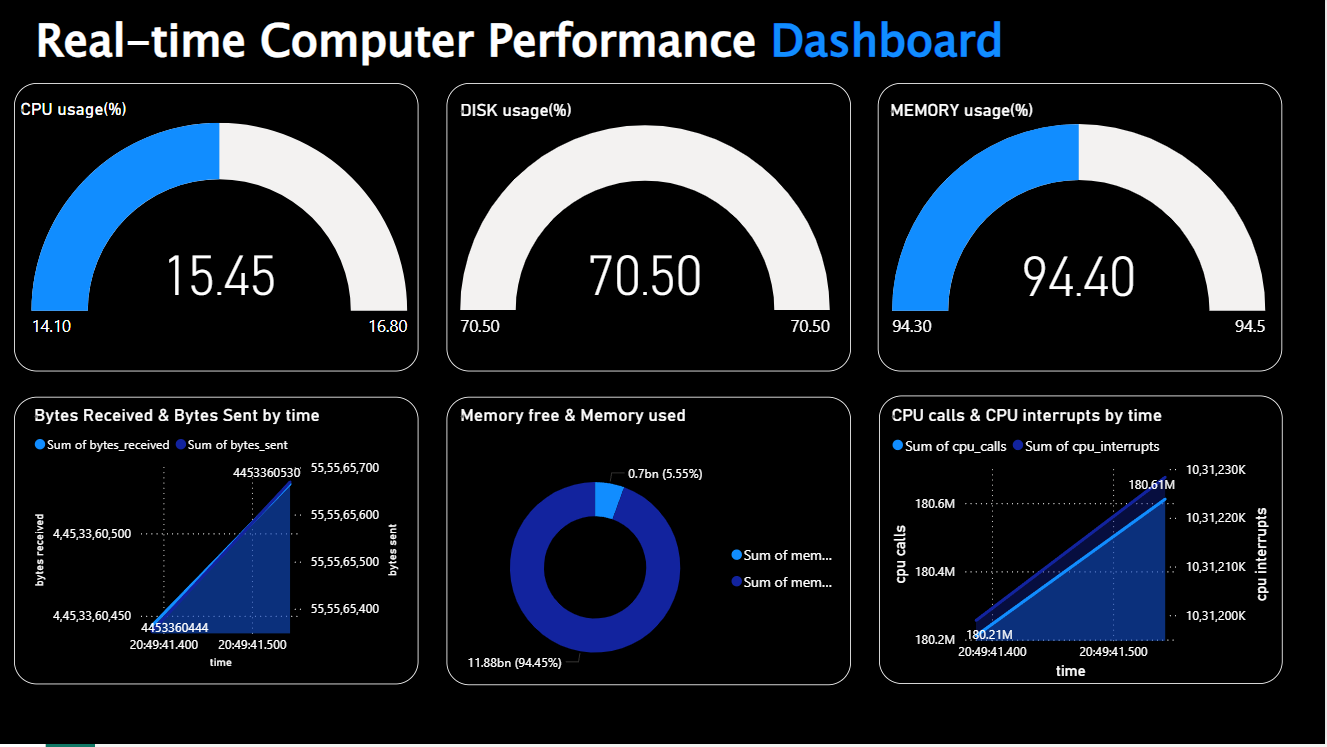

What the dashboard file says about the page in this screenshot:
{"tool":"powerbi","page":{"name":"Page 1","canvas":[1280,720],"ordinal":0},"visuals":[{"type":"textbox","box":[16.8,4.8,979.2,76.7],"z":0},{"type":"textbox","box":[14.5,82,390.8,278.6],"z":1000},{"type":"textbox","box":[849,383.5,389.5,278.6],"z":2000},{"type":"textbox","box":[431.8,384.7,390.8,278.6],"z":3000},{"type":"textbox","box":[847.8,82,390.8,278.6],"z":4000},{"type":"textbox","box":[14.5,384.7,390.8,277.4],"z":5000},{"type":"textbox","box":[431.8,82,390.8,278.6],"z":6000},{"type":"gauge","title":"CPU usage(%)","fields":{"MinValue":["Min(Performance.cpu_usage)"],"MaxValue":["Max(Performance.cpu_usage)"],"Y":["Avg(Performance.cpu_usage)"]},"box":[15.6,97.1,394.3,242.1],"z":7000},{"type":"gauge","title":"DISK usage(%)","fields":{"MinValue":["Min(Performance.disk_usage)"],"MaxValue":["Max(Performance.disk_usage)"],"Y":["Avg(Performance.disk_usage)1"]},"box":[440.2,97.7,366.6,241.2],"z":8000},{"type":"gauge","title":"MEMORY usage(%)","fields":{"MaxValue":["Max(Performance.memory_usage)"],"MinValue":["Min(Performance.memory_usage)2"],"Y":["Avg(Performance.memory_usage)1"]},"box":[855.7,98.3,373.9,240.9],"z":9000},{"type":"areaChart","title":"Bytes Received & Bytes Sent by time","fields":{"Category":["Performance.time1"],"Y2":["Sum(Performance.bytes_sent)1"],"Y":["Sum(Performance.bytes_received)1"]},"box":[28.8,391.9,361.9,260.1],"z":10000},{"type":"areaChart","title":"CPU calls & CPU interrupts by time   ","fields":{"Category":["Performance.time1"],"Y":["Sum(Performance.cpu_calls)1"],"Y2":["Sum(Performance.cpu_interrupts)1"]},"box":[856.9,391.9,373.9,270.9],"z":11000},{"type":"donutChart","title":"Memory free &  Memory used","fields":{"Y":["Sum(Performance.memory_free)1","Sum(Performance.memory_used)1"]},"box":[439.9,391.9,382.3,296],"z":12000}]}

Visuals, with their boxes in screenshot pixels (x1, y1, x2, y2), scaled from the page's 1280x720 canvas onto the 1327x747 screenshot:
textbox: (x1=17, y1=5, x2=1033, y2=85)
textbox: (x1=15, y1=85, x2=420, y2=374)
textbox: (x1=880, y1=398, x2=1284, y2=687)
textbox: (x1=448, y1=399, x2=853, y2=688)
textbox: (x1=879, y1=85, x2=1284, y2=374)
textbox: (x1=15, y1=399, x2=420, y2=687)
textbox: (x1=448, y1=85, x2=853, y2=374)
"CPU usage(%)" gauge: (x1=16, y1=101, x2=425, y2=352)
"DISK usage(%)" gauge: (x1=456, y1=101, x2=836, y2=352)
"MEMORY usage(%)" gauge: (x1=887, y1=102, x2=1275, y2=352)
"Bytes Received & Bytes Sent by time" areaChart: (x1=30, y1=407, x2=405, y2=676)
"CPU calls & CPU interrupts by time   " areaChart: (x1=888, y1=407, x2=1276, y2=688)
"Memory free &  Memory used" donutChart: (x1=456, y1=407, x2=852, y2=714)
